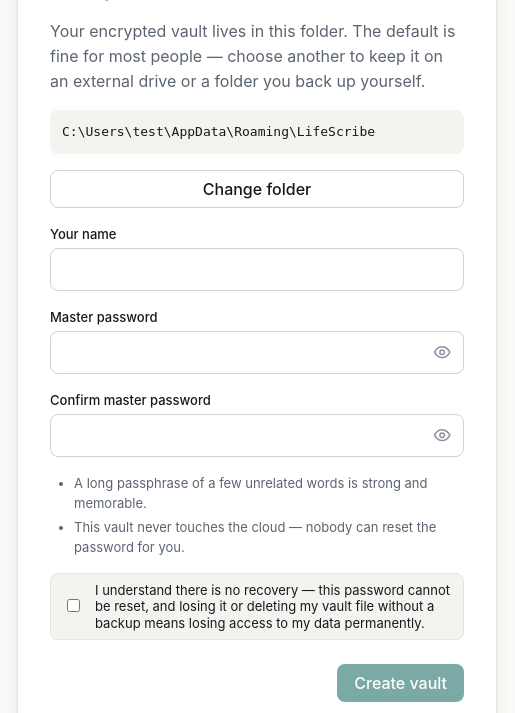
it: SetupScreen › blocks a master password shorter than 15 characters
(page scrolled)
Type "short" into the password field labelled "Master password" at (257, 352), box [50,331,464,374]
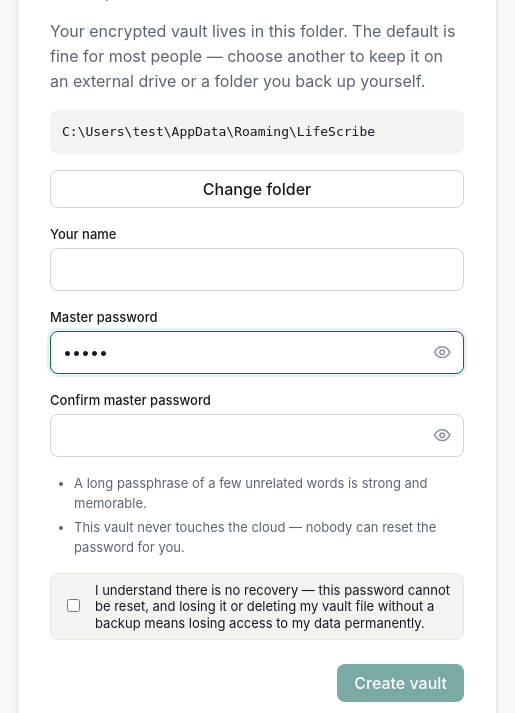
Type "short" into the password field labelled "Confirm master password" at (257, 435), box [50,414,464,457]
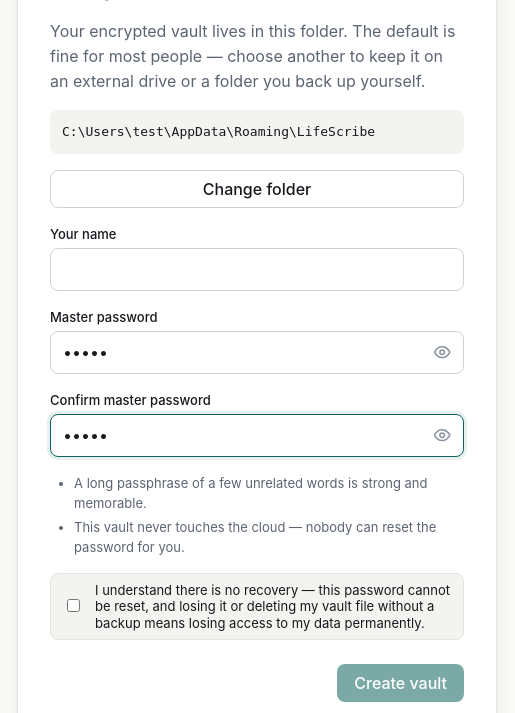
Click the checkbox labelled "no recovery" at (74, 605), box [67,599,80,612]
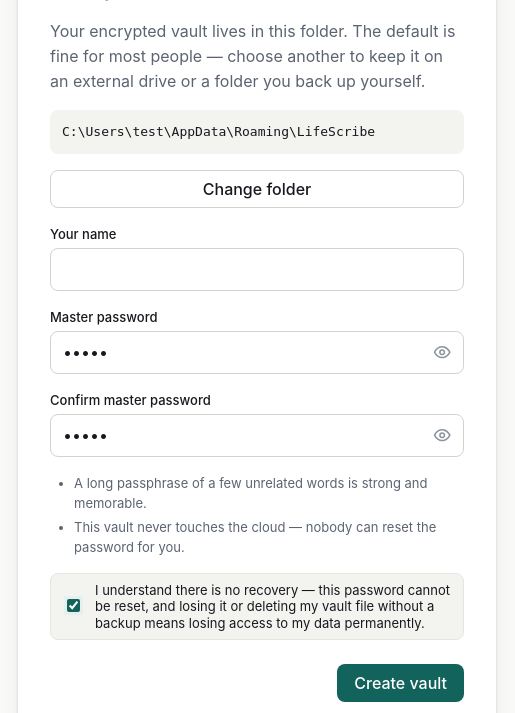
Click the button "Create vault" at (401, 683), box [337,664,464,702]
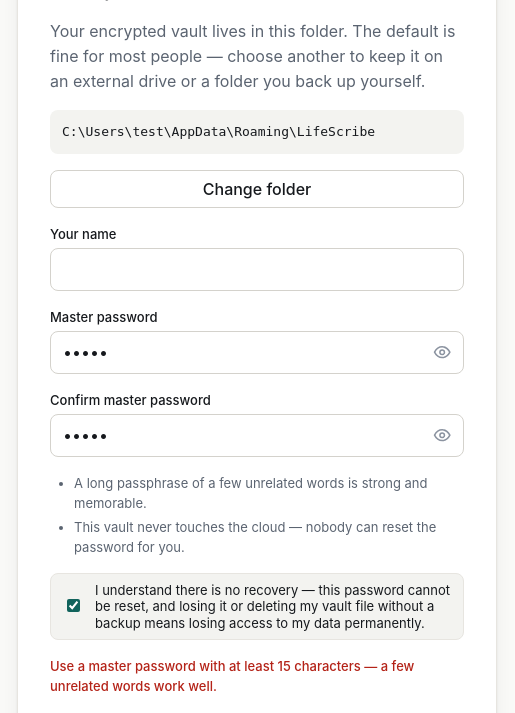
Check: the message shows "at least 15 characters", box [50,658,414,694]
